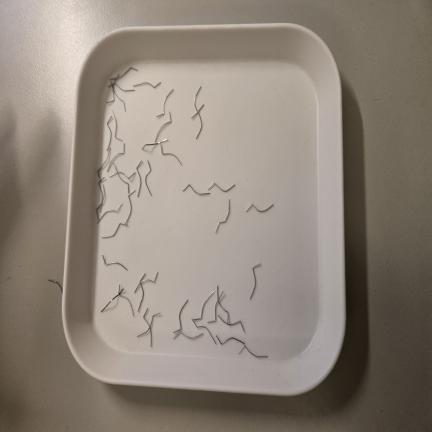probe: (193, 291, 214, 319), (156, 89, 174, 117), (173, 300, 188, 333), (155, 112, 172, 141), (215, 200, 230, 232), (250, 263, 261, 299), (102, 255, 127, 270), (183, 184, 210, 195), (208, 182, 235, 192), (145, 160, 152, 196), (246, 204, 274, 212), (133, 82, 161, 89), (107, 116, 112, 150)
